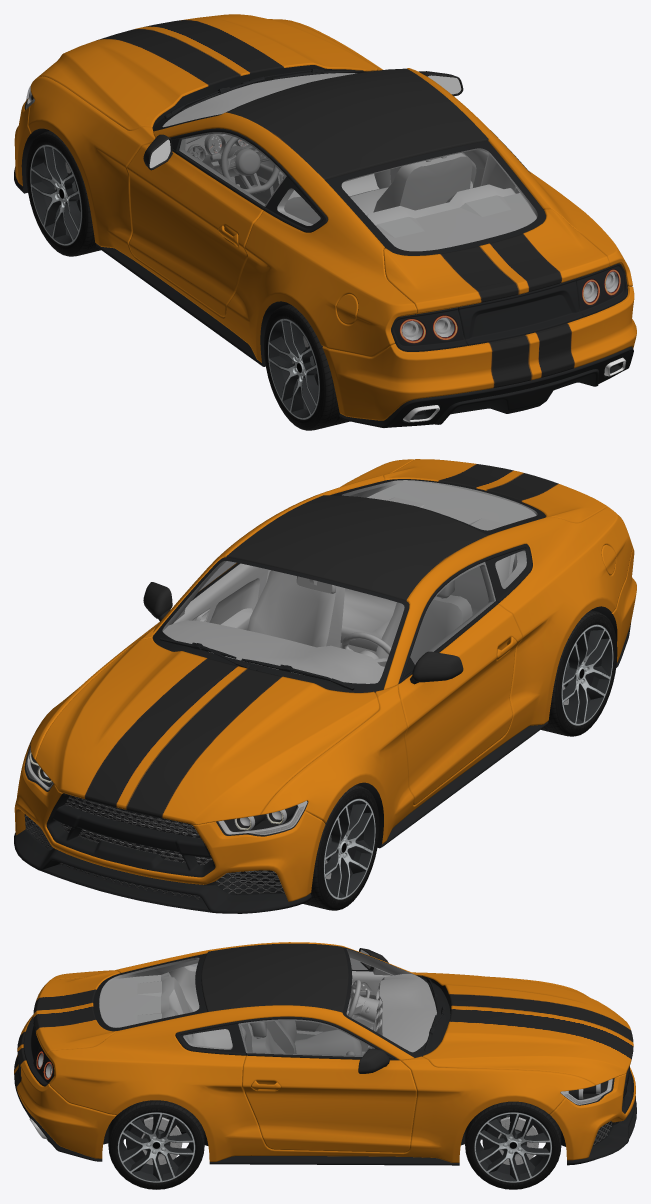
File: RealisticCarHd05.gltf
The picture shows the model from 3 angles, top to bottom: view 1: azimuth 30°, elevation 25°; view 2: azimuth 150°, elevation 25°; view 3: azimuth 270°, elevation 25°; orthographic projection. The views are drawn at different scales.
Visible parts, largest first — view 1: Car05_Body_LOD0_Car05_Body01_0, Car05_Body_LOD0_Car05_Parts01_0, Car05_Glass_LOD0_Car05_Glass01_0, Car05_Interior_LOD0_Car05_Interior01_0, Car05_Door_Left_LOD0_Car05_Body01_0, Car05_Wheel_Rear_Left_LOD0_Car05_Wheel01_0, Car05_Wheel_Front_Left_LOD0_Car05_Wheel01_0, Car05_Door_Left_LOD0_Car05_Glass01_0, Car05_Interior_SteeringWheel_LOD0_Car05_Interior01_0, Car05_Door_Left_LOD0_Car05_Parts01_0, Car05_Lights_BackLight_Car05_LightsEmissive_0, Car05_Door_Right_LOD0_Car05_Interior01_0; view 2: Car05_Body_LOD0_Car05_Body01_0, Car05_Body_LOD0_Car05_Parts01_0, Car05_Glass_LOD0_Car05_Glass01_0, Car05_Interior_LOD0_Car05_Interior01_0, Car05_Door_Left_LOD0_Car05_Body01_0, Car05_Wheel_Rear_Left_LOD0_Car05_Wheel01_0, Car05_Wheel_Front_Left_LOD0_Car05_Wheel01_0, Car05_Door_Left_LOD0_Car05_Glass01_0, Car05_Door_Right_LOD0_Car05_Interior01_0, Car05_Body_LOD0_Car05_Grill01_0, Car05_Door_Right_LOD0_Car05_Body01_0; view 3: Car05_Body_LOD0_Car05_Body01_0, Car05_Door_Right_LOD0_Car05_Body01_0, Car05_Interior_LOD0_Car05_Interior01_0, Car05_Glass_LOD0_Car05_Glass01_0, Car05_Body_LOD0_Car05_Parts01_0, Car05_Wheel_Rear_Right_LOD0_Car05_Wheel01_0, Car05_Wheel_Front_Right_LOD0_Car05_Wheel01_0, Car05_Door_Right_LOD0_Car05_Glass01_0, Car05_Door_Left_LOD0_Car05_Interior01_0, Car05_BrakeDisc_FrontRight_LOD0_Car05_Parts01_0, Car05_BrakeDisc_RearRight_LOD0_Car05_Parts01_0, Car05_Interior_SteeringWheel_LOD0_Car05_Interior01_0 (+1 smaller).
Boxes of the visible parts, x1,y1,x2,y2 form: Car05_Body_LOD0_Car05_Body01_0: (14,14,636,420); Car05_Body_LOD0_Car05_Parts01_0: (14,65,633,427); Car05_Glass_LOD0_Car05_Glass01_0: (25,70,620,343); Car05_Interior_LOD0_Car05_Interior01_0: (162,73,537,251); Car05_Door_Left_LOD0_Car05_Body01_0: (127,134,263,316); Car05_Wheel_Rear_Left_LOD0_Car05_Wheel01_0: (264,304,350,430); Car05_Wheel_Front_Left_LOD0_Car05_Wheel01_0: (26,130,100,256); Car05_Door_Left_LOD0_Car05_Glass01_0: (178,131,286,206); Car05_Interior_SteeringWheel_LOD0_Car05_Interior01_0: (220,136,279,194); Car05_Door_Left_LOD0_Car05_Parts01_0: (149,138,264,209); Car05_Lights_BackLight_Car05_LightsEmissive_0: (399,269,620,343); Car05_Door_Right_LOD0_Car05_Interior01_0: (390,149,488,188); Car05_Body_LOD0_Car05_Body01_0: (14,459,636,901); Car05_Body_LOD0_Car05_Parts01_0: (14,479,630,913); Car05_Glass_LOD0_Car05_Glass01_0: (25,480,537,836); Car05_Interior_LOD0_Car05_Interior01_0: (162,480,537,683); Car05_Door_Left_LOD0_Car05_Body01_0: (398,604,522,804); Car05_Wheel_Rear_Left_LOD0_Car05_Wheel01_0: (541,610,617,736); Car05_Wheel_Front_Left_LOD0_Car05_Wheel01_0: (303,785,379,910); Car05_Door_Left_LOD0_Car05_Glass01_0: (410,562,496,664); Car05_Door_Right_LOD0_Car05_Interior01_0: (173,563,268,630); Car05_Body_LOD0_Car05_Grill01_0: (25,795,284,899); Car05_Door_Right_LOD0_Car05_Body01_0: (142,563,236,635); Car05_Body_LOD0_Car05_Body01_0: (14,942,635,1162); Car05_Door_Right_LOD0_Car05_Body01_0: (242,1048,416,1152); Car05_Interior_LOD0_Car05_Interior01_0: (99,949,436,1055); Car05_Glass_LOD0_Car05_Glass01_0: (36,949,613,1105); Car05_Body_LOD0_Car05_Parts01_0: (14,947,636,1165); Car05_Wheel_Rear_Right_LOD0_Car05_Wheel01_0: (108,1100,204,1189); Car05_Wheel_Front_Right_LOD0_Car05_Wheel01_0: (465,1101,561,1189); Car05_Door_Right_LOD0_Car05_Glass01_0: (238,1019,374,1057); Car05_Door_Left_LOD0_Car05_Interior01_0: (295,967,392,1051); Car05_BrakeDisc_FrontRight_LOD0_Car05_Parts01_0: (498,1117,538,1164); Car05_BrakeDisc_RearRight_LOD0_Car05_Parts01_0: (141,1117,182,1164); Car05_Interior_SteeringWheel_LOD0_Car05_Interior01_0: (346,980,365,1019).
Size of the model in its own units: 2.09 by 1.42 by 4.76.
